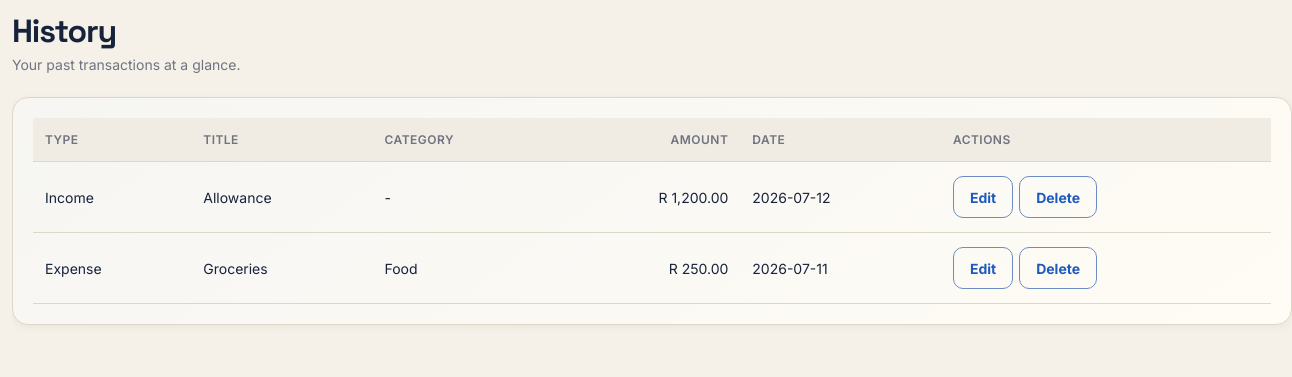
it: confirms and deletes an income using its stable kind and document ID
Click the button with aria-label "Delete income Allowance". click: (1058, 197)
box: left=1019, top=176, right=1097, bottom=218
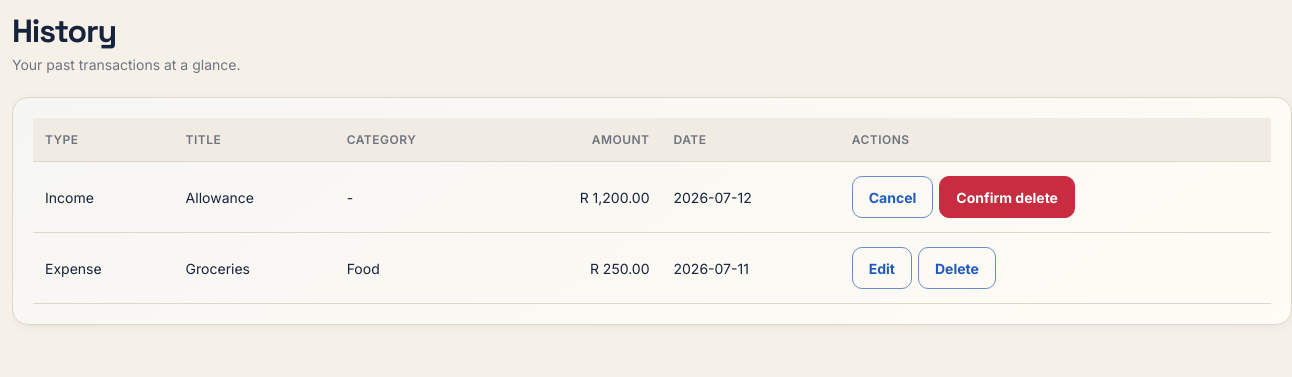
Click the button with aria-label "Confirm delete income Allowance". click: (1007, 197)
box: left=939, top=176, right=1075, bottom=218
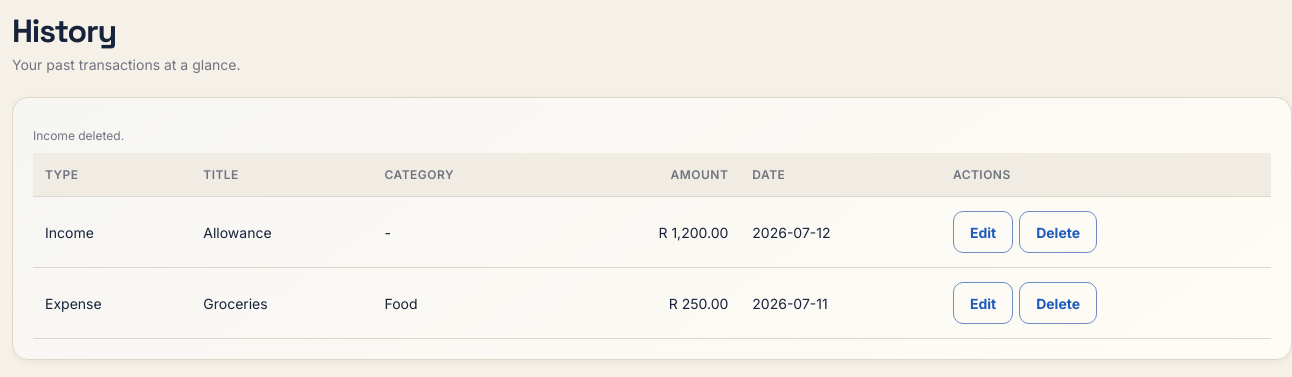
Expected: the message reads "Income deleted.", left=33, top=128, right=124, bottom=143
